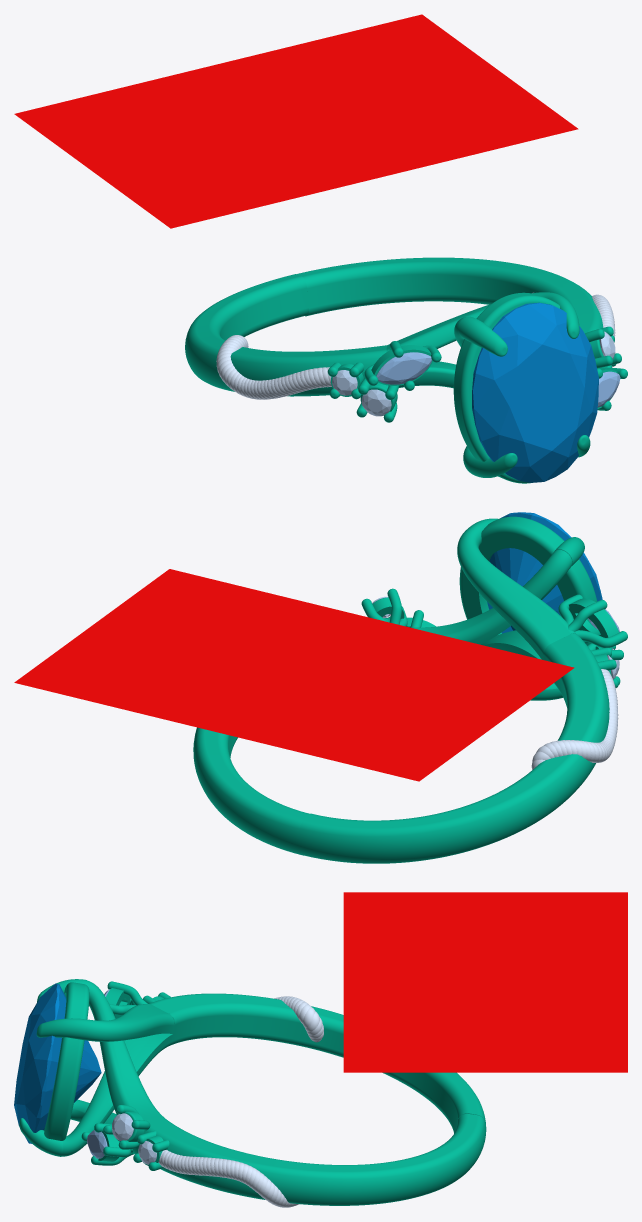
3 renders of one model, top to bottom at view 1: azimuth 30°, elevation 25°; view 2: azimuth 150°, elevation 25°; view 3: azimuth 270°, elevation 25°, orthographic. The views are drawn at different scales.
Parts seen in each view (by area): view 1: RING.JTC.SRO5(base).3dm, Diamond_Oval, Diamond_Marquise; view 2: RING.JTC.SRO5(base).3dm, Diamond_Oval; view 3: RING.JTC.SRO5(base).3dm, Diamond_Oval, Diamond_Round.
Boxes of the visible parts, left/top/right/bottom form: RING.JTC.SRO5(base).3dm: left=14, top=14, right=627, bottom=483; Diamond_Oval: left=472, top=302, right=598, bottom=482; Diamond_Marquise: left=376, top=352, right=431, bottom=384; RING.JTC.SRO5(base).3dm: left=14, top=516, right=627, bottom=863; Diamond_Oval: left=487, top=512, right=602, bottom=633; RING.JTC.SRO5(base).3dm: left=19, top=892, right=627, bottom=1207; Diamond_Oval: left=14, top=983, right=101, bottom=1143; Diamond_Round: left=112, top=1113, right=133, bottom=1140.
Size of what is drawn, in the model's own units: 2.66 by 1.16 by 3.83.
